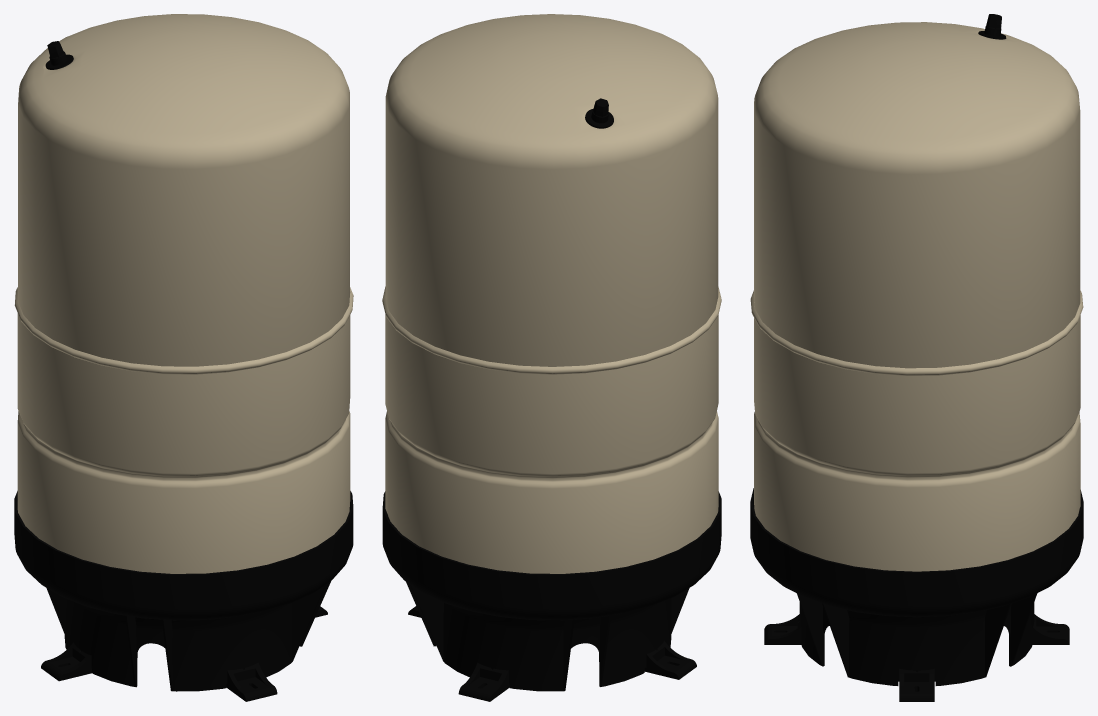
Rendered from 60lt-sabit-dikey-tank.obj.
3 renders of one model, left to right at view 1: azimuth 30°, elevation 25°; view 2: azimuth 150°, elevation 25°; view 3: azimuth 270°, elevation 25°, orthographic.
Parts seen in each view (by area): view 1: 60lt-sabit-dikey-tank.007, 60lt-sabit-dikey-tank.003, 60lt-sabit-dikey-tank.015, 60lt-sabit-dikey-tank.002, 60lt-sabit-dikey-tank.017, 60lt-sabit-dikey-tank.019, 60lt-sabit-dikey-tank.001; view 2: 60lt-sabit-dikey-tank.007, 60lt-sabit-dikey-tank.003, 60lt-sabit-dikey-tank.015, 60lt-sabit-dikey-tank.002, 60lt-sabit-dikey-tank.018, 60lt-sabit-dikey-tank.019, 60lt-sabit-dikey-tank.001; view 3: 60lt-sabit-dikey-tank.007, 60lt-sabit-dikey-tank.003, 60lt-sabit-dikey-tank.015, 60lt-sabit-dikey-tank.002, 60lt-sabit-dikey-tank.016, 60lt-sabit-dikey-tank.017, 60lt-sabit-dikey-tank.018.
Part boxes in pixels (x1,y1,x2,y2): 60lt-sabit-dikey-tank.007: (18, 14, 349, 366); 60lt-sabit-dikey-tank.003: (17, 313, 350, 573); 60lt-sabit-dikey-tank.015: (14, 491, 353, 691); 60lt-sabit-dikey-tank.002: (14, 287, 353, 374); 60lt-sabit-dikey-tank.017: (226, 662, 277, 701); 60lt-sabit-dikey-tank.019: (41, 642, 91, 681); 60lt-sabit-dikey-tank.001: (45, 41, 73, 69); 60lt-sabit-dikey-tank.007: (385, 14, 718, 366); 60lt-sabit-dikey-tank.003: (385, 314, 718, 573); 60lt-sabit-dikey-tank.015: (382, 491, 721, 691); 60lt-sabit-dikey-tank.002: (382, 286, 721, 374); 60lt-sabit-dikey-tank.018: (458, 662, 509, 701); 60lt-sabit-dikey-tank.019: (644, 641, 696, 679); 60lt-sabit-dikey-tank.001: (585, 98, 613, 128); 60lt-sabit-dikey-tank.007: (754, 22, 1080, 368); 60lt-sabit-dikey-tank.003: (754, 302, 1080, 571); 60lt-sabit-dikey-tank.015: (750, 488, 1083, 685); 60lt-sabit-dikey-tank.002: (750, 290, 1083, 375); 60lt-sabit-dikey-tank.016: (899, 669, 934, 701); 60lt-sabit-dikey-tank.017: (764, 614, 801, 644); 60lt-sabit-dikey-tank.018: (1032, 614, 1069, 644).
Size of the model in its own units: 19.56 by 37.57 by 19.56.
